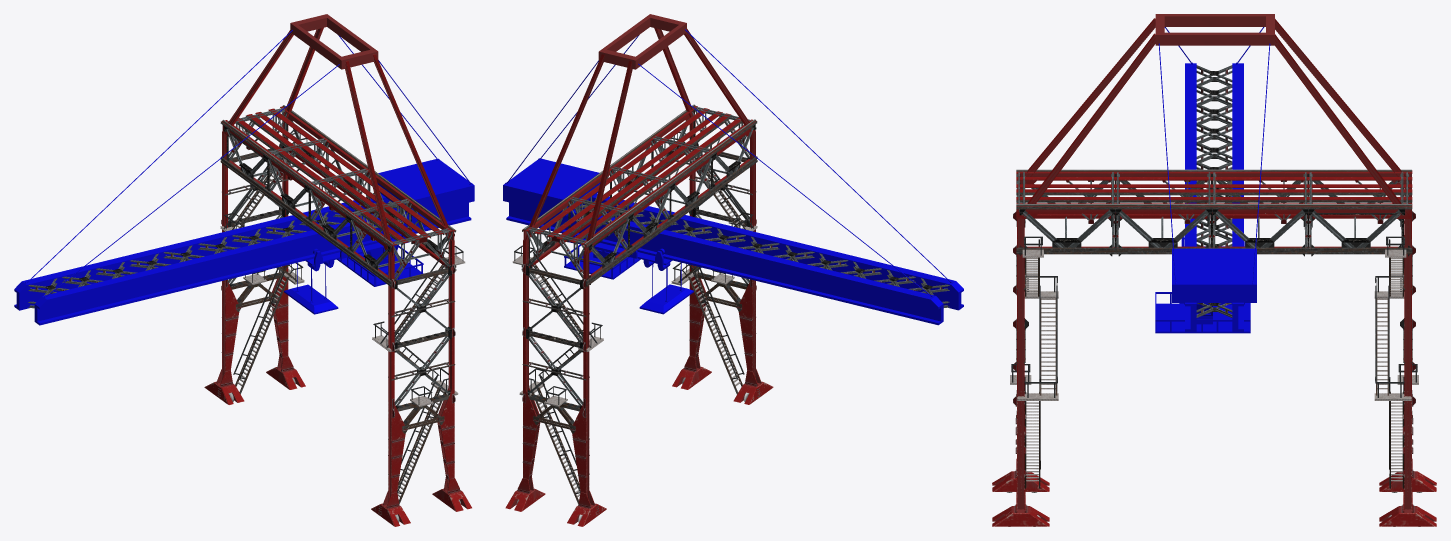
Rendered from CraineBase.fbx.
3 views of the same model, side by side, from view 1: azimuth 30°, elevation 25°; view 2: azimuth 150°, elevation 25°; view 3: azimuth 270°, elevation 25° (orthographic). The views are drawn at different scales.
Parts seen in each view (by area): view 1: CrainBase, Craine; view 2: CrainBase, Craine; view 3: CrainBase, Craine.
Part boxes in pixels (x1,y1,x2,y2): CrainBase: (14,14,474,526); Craine: (284,235,423,314); CrainBase: (503,14,963,526); Craine: (564,235,693,314); CrainBase: (992,14,1436,526); Craine: (1155,236,1250,333).
Bounding box in the file's own units: 81.77 × 75.22 × 62.71.
